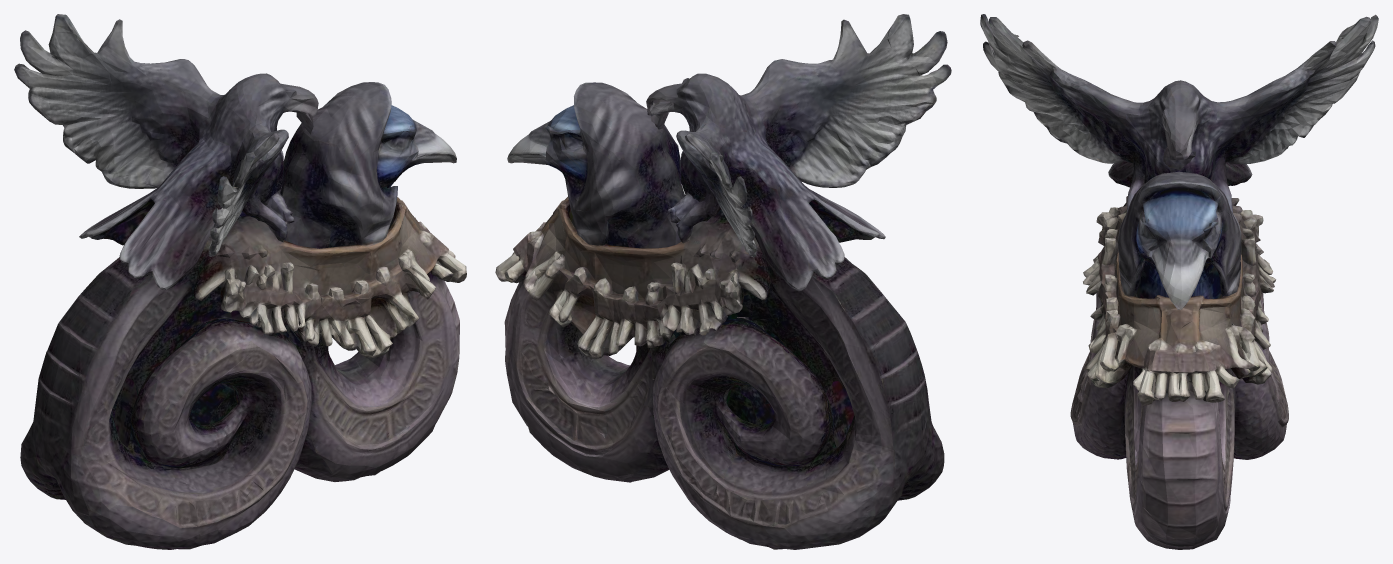
File: duskcoil__huginnsConfidant.glb
3 views of the same model, side by side, from view 1: azimuth 30°, elevation 25°; view 2: azimuth 150°, elevation 25°; view 3: azimuth 270°, elevation 25° (orthographic).
Visible parts, largest first — view 1: world; view 2: world; view 3: world.
Boxes of the visible parts, x1,y1,x2,y2 form: world: (14,14,466,549); world: (495,14,951,549); world: (980,14,1378,549).
Bounding box in the file's own units: 0.9887 × 0.9988 × 0.8442.
1 material, 1 textured.
